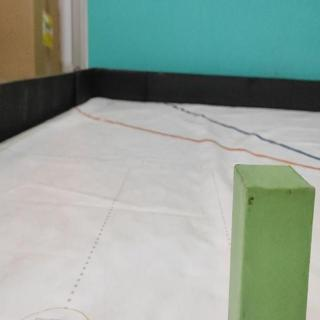greenbox: (227, 162, 314, 320)
